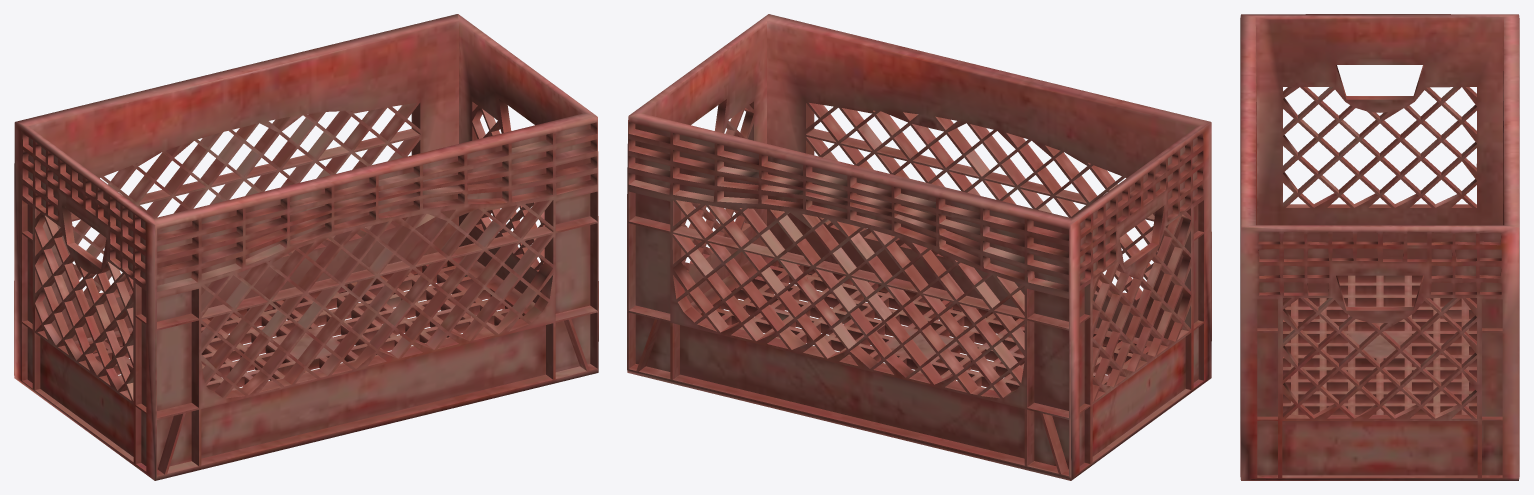
Rendered from plastic_crate_03.glb.
3 renders of one model, left to right at view 1: azimuth 30°, elevation 25°; view 2: azimuth 150°, elevation 25°; view 3: azimuth 270°, elevation 25°, orthographic.
Parts seen in each view (by area): view 1: plastic_crate_03; view 2: plastic_crate_03; view 3: plastic_crate_03.
Boxes of the visible parts, x1,y1,x2,y2 form: plastic_crate_03: (14,14,598,480); plastic_crate_03: (627,14,1211,480); plastic_crate_03: (1240,14,1519,480).
Bounding box in the file's own units: 0.4811 × 0.2652 × 0.265.
1 material, 1 textured.
